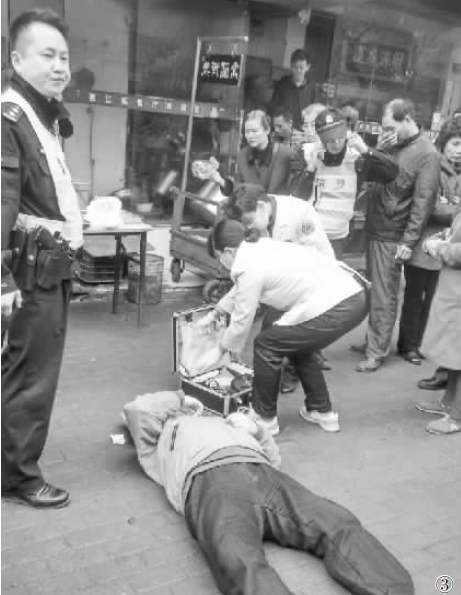fall: (119, 369, 431, 595)
